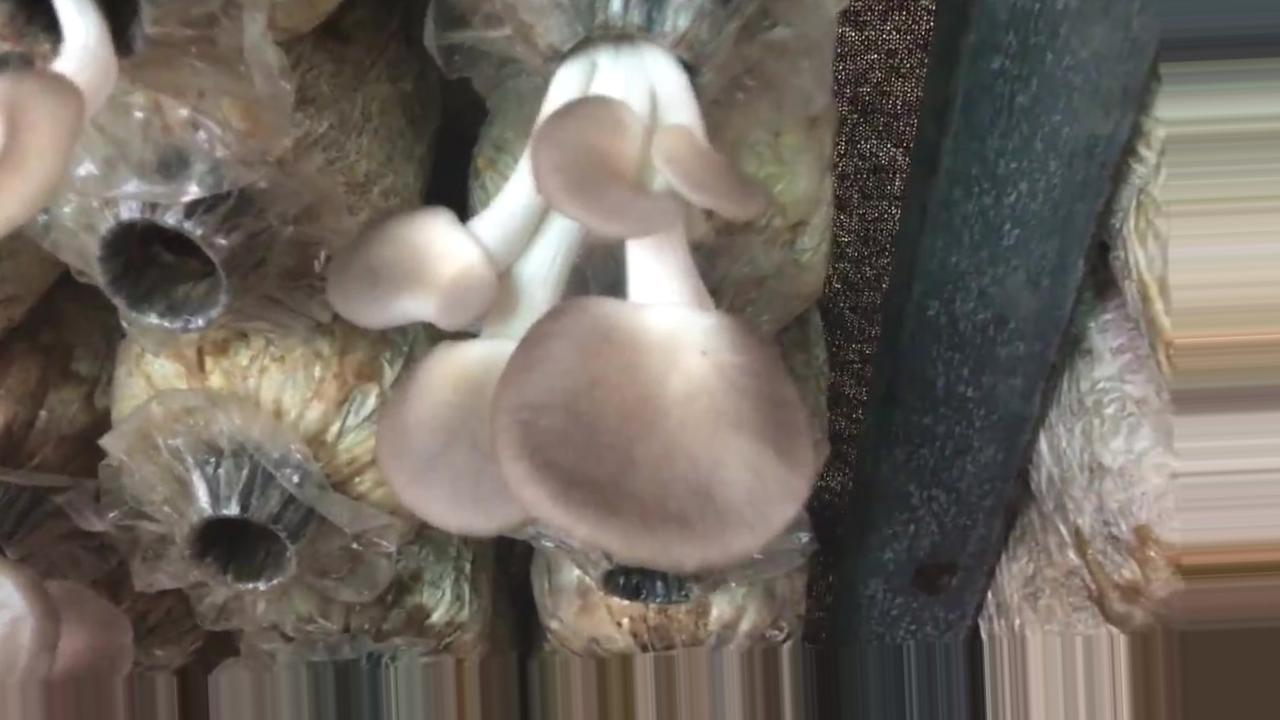nam: (330, 1, 816, 575), (1, 1, 127, 234)
